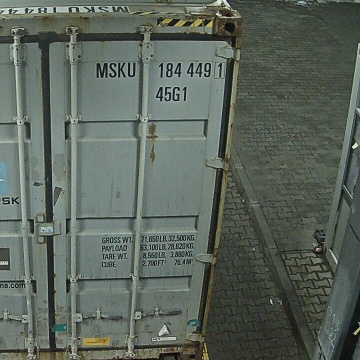serial_id: (96, 62, 223, 78)
